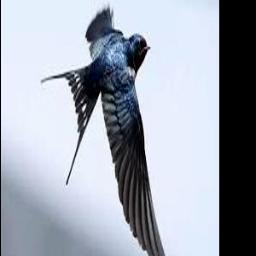Swallow: (41, 4, 172, 256)
